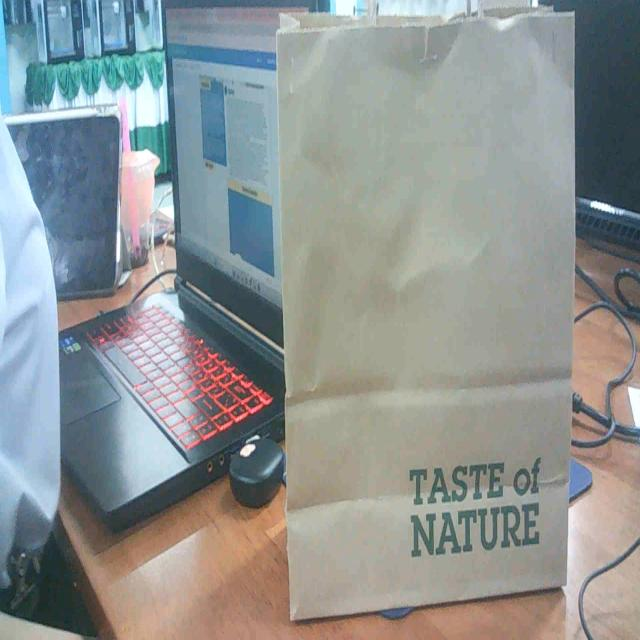bag: (256, 0, 599, 620)
